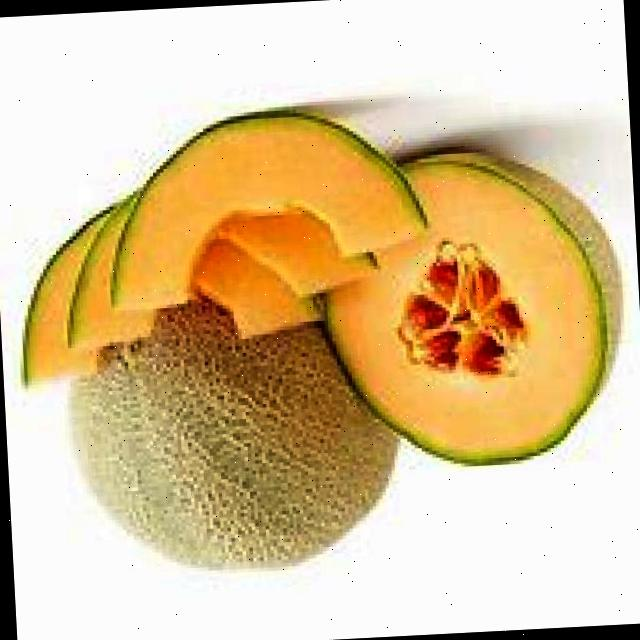Hami Melon: (309, 134, 632, 471), (65, 286, 405, 582)
